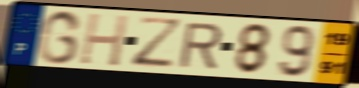8: (232, 21, 273, 76)
9: (277, 23, 316, 79)
G: (35, 8, 84, 66)
H: (77, 11, 131, 69)
R: (177, 22, 226, 70)
Z: (129, 14, 186, 69)
